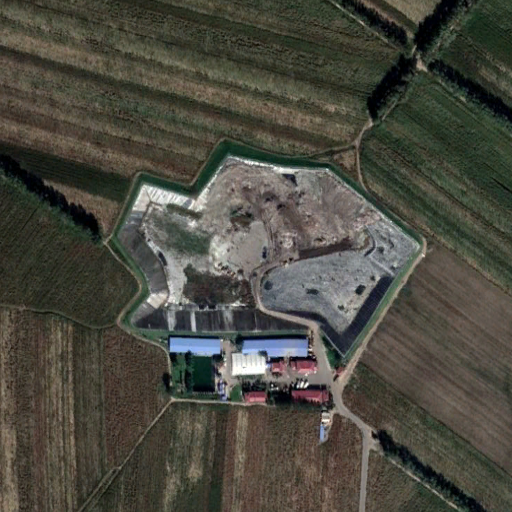lf: (110, 139, 419, 352)
